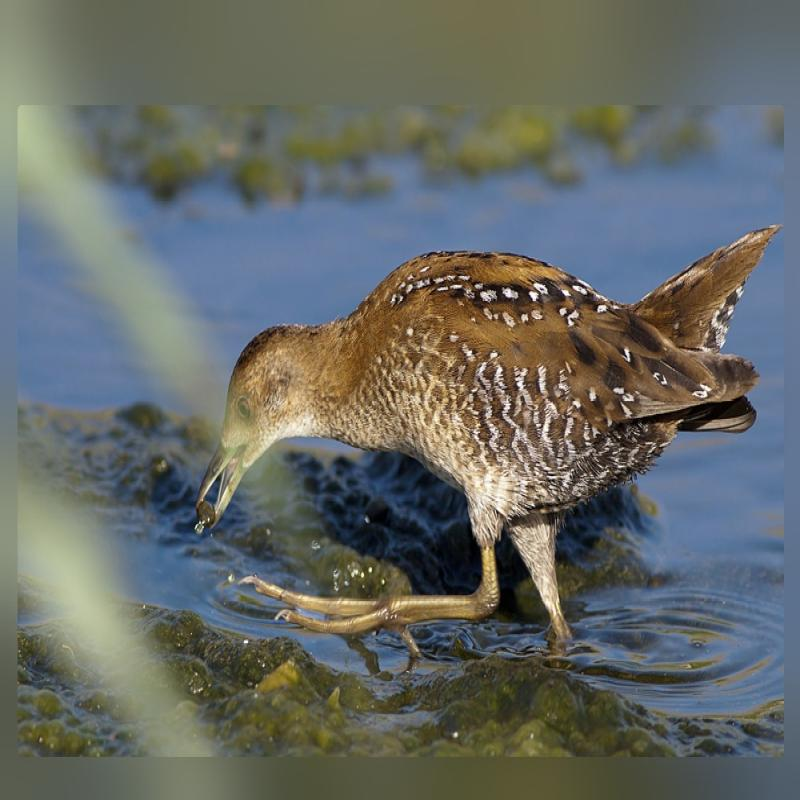little crake: (196, 204, 786, 590)
